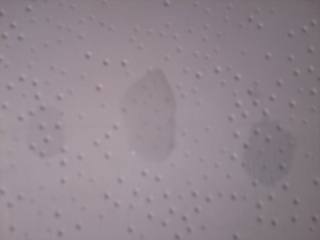Water_detected: (114, 83, 178, 165), (21, 111, 66, 162), (226, 127, 260, 168)
